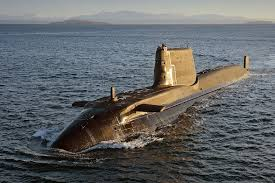Submarine: (50, 48, 250, 154)
